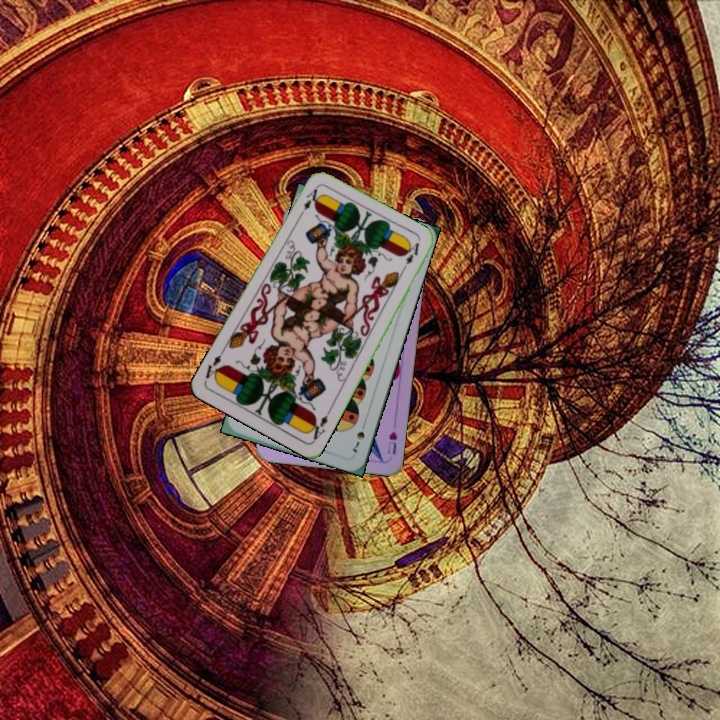EA: (305, 406, 334, 444), (295, 185, 320, 220)
HU: (383, 427, 400, 457)
S7: (348, 417, 369, 457)
